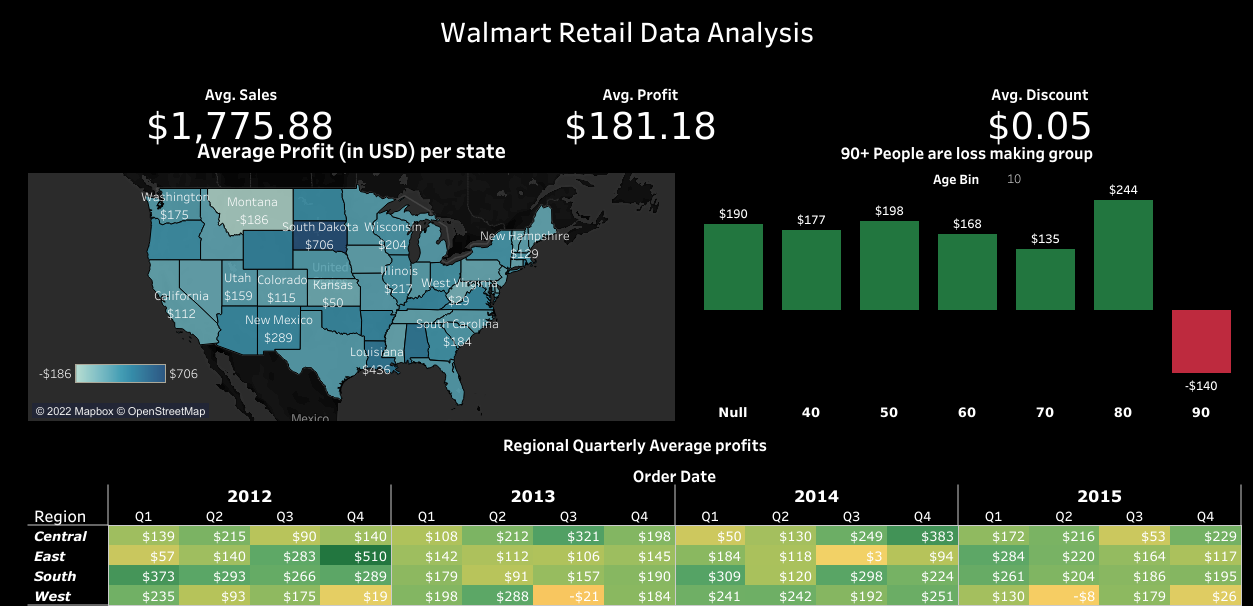

The dashboard page shown, as its layout file describes it:
{"tool":"tableau","page":{"name":"Dashboard 1","canvas":[1000,1000],"units":"permille","ordinal":0},"visuals":[{"type":"title","box":[6.5,12.8,987,72.2]},{"type":"worksheet","title":"Avg Values","mark":"Automatic","box":[32.6,105.9,955.9,211.9]},{"type":"worksheet","title":"State vs profit","mark":"Multipolygon","box":[22,213.5,516.3,479.9]},{"type":"worksheet","title":"Age Vs Profit","mark":"Automatic","rows":["Profit"],"cols":["Customer Age (bin)"],"box":[553.6,223.1,434.9,470.3]},{"type":"parameter","param":"[Parameters].[Parameter 1]","box":[744.2,277.7,98.7,32.1]},{"type":"legend","title":"State vs profit","param":"[federated.1sljrag121lhl414xtcus0lld45v].[avg:Profit:qk]","box":[27.8,593.9,134.1,75.4]}]}

Visuals, with their boxes on the dashboard's canvas, which has no fixed pixel size, in thousandths of its width and height (x1, y1, x2, y2). These are canvas units, not pixel positions in the 1253x606 screenshot, which may show the page scaled, cropped or inside an application window:
title: <region>6, 13, 994, 85</region>
"Avg Values" worksheet: <region>33, 106, 988, 318</region>
"State vs profit" worksheet (Multipolygon marks): <region>22, 214, 538, 693</region>
"Age Vs Profit" worksheet: <region>554, 223, 988, 693</region>
parameter: <region>744, 278, 843, 310</region>
"State vs profit" legend: <region>28, 594, 162, 669</region>
